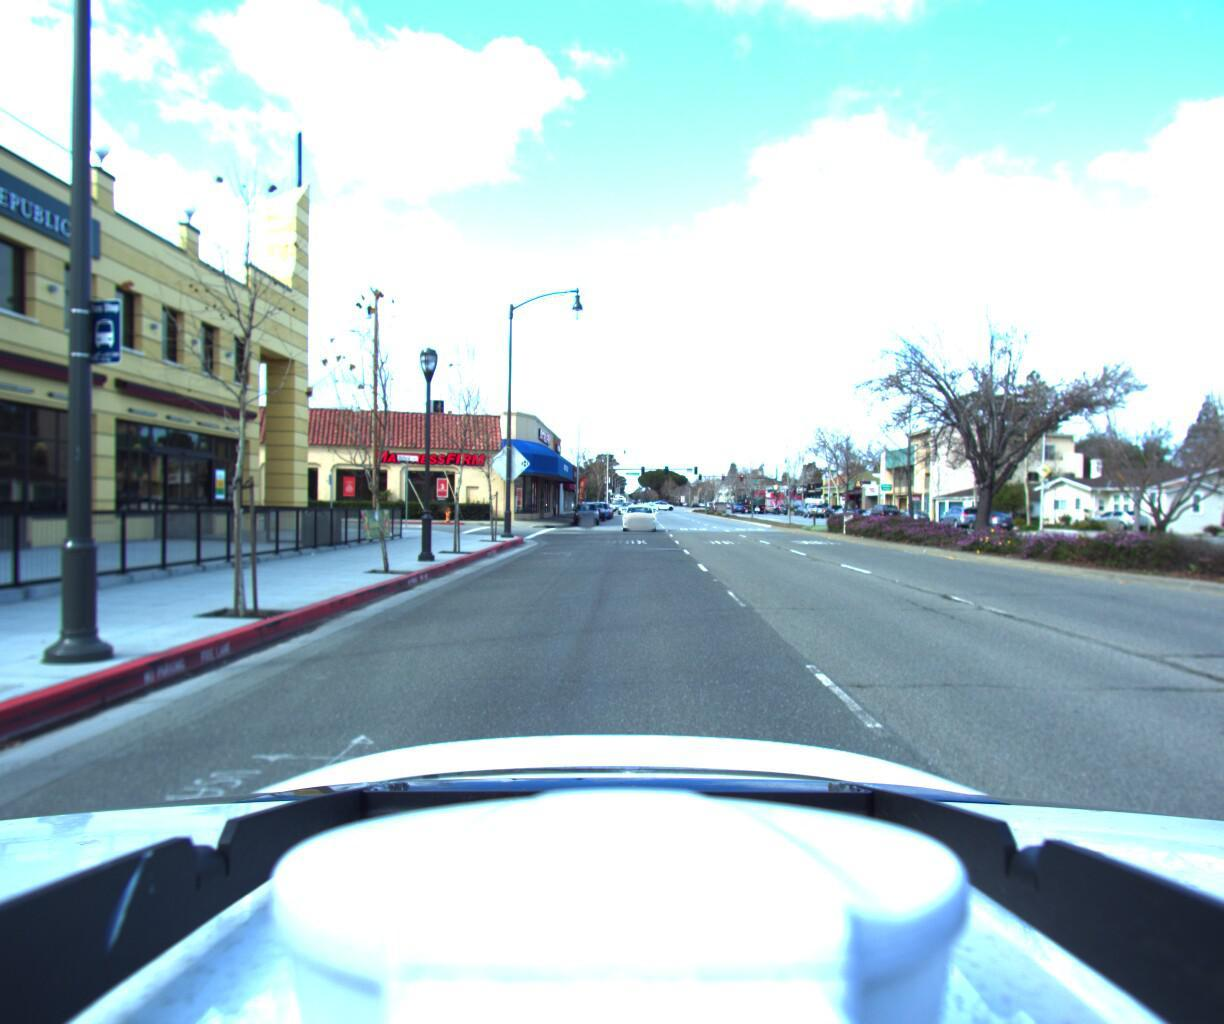car: (933, 505, 986, 529), (961, 510, 1014, 531), (619, 502, 655, 531), (569, 502, 599, 526)
